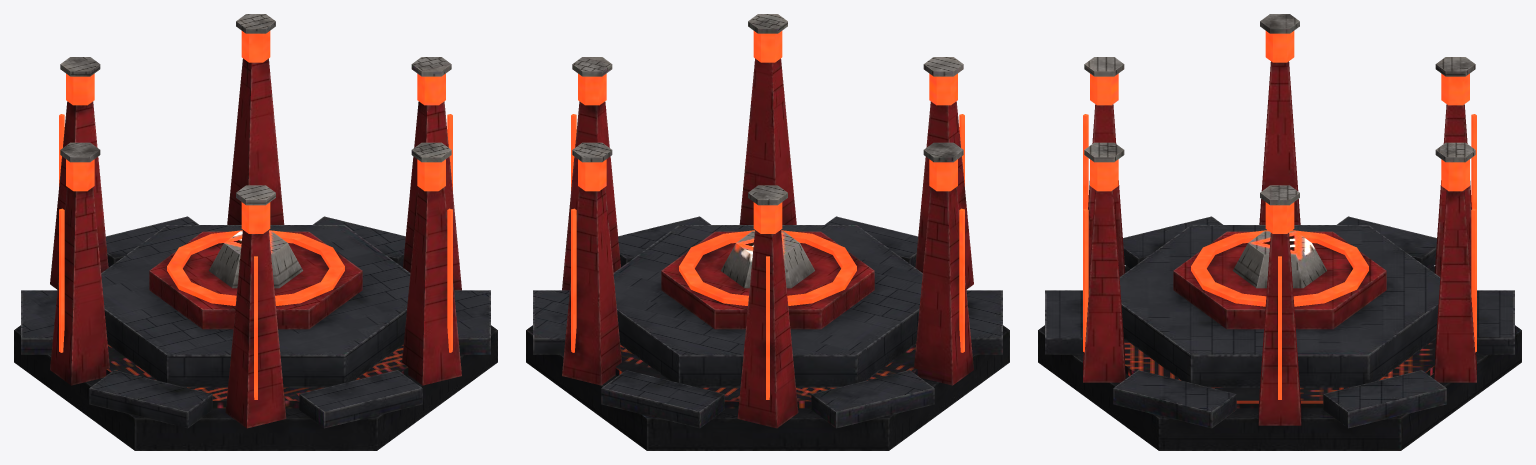
The picture shows the model from 3 angles, left to right: view 1: azimuth 30°, elevation 25°; view 2: azimuth 150°, elevation 25°; view 3: azimuth 270°, elevation 25°; orthographic projection.
Visible parts, largest first — view 1: k_base_e; view 2: k_base_e; view 3: k_base_e.
Boxes of the visible parts, left/top/right/bottom form: k_base_e: left=14, top=14, right=497, bottom=450; k_base_e: left=526, top=14, right=1009, bottom=450; k_base_e: left=1038, top=14, right=1521, bottom=450.
Bounding box in the file's own units: 6.52 × 3.96 × 6.8.
1 material, 1 textured.
